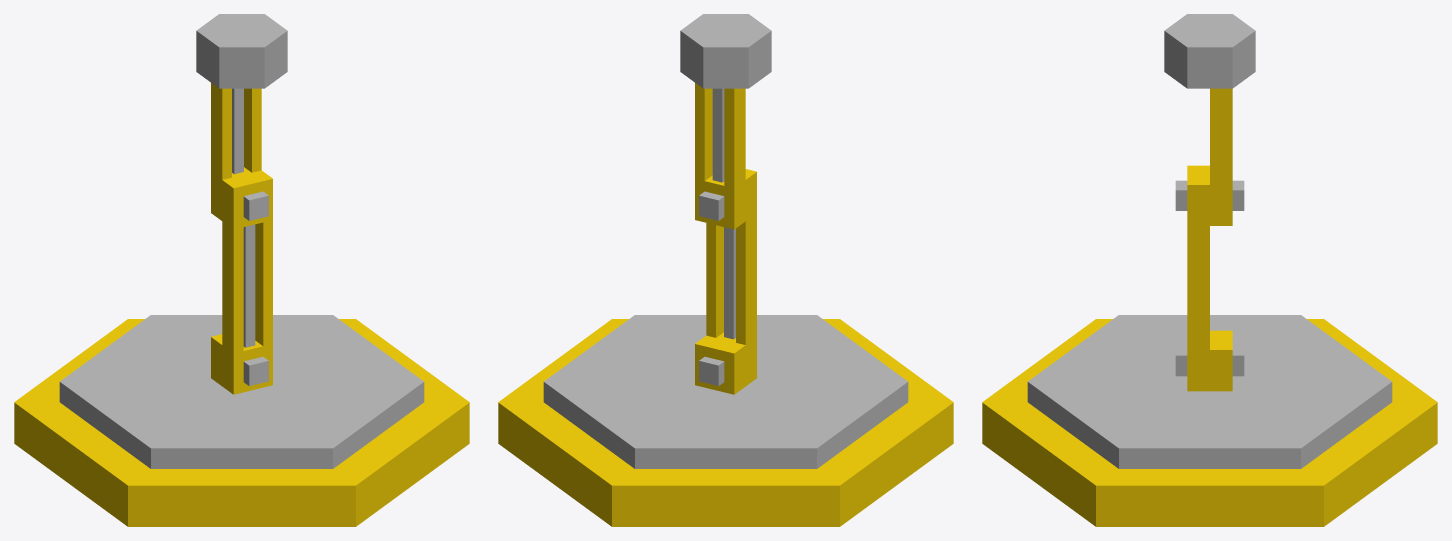
The model's file is robot.glb.
3 renders of one model, left to right at view 1: azimuth 30°, elevation 25°; view 2: azimuth 150°, elevation 25°; view 3: azimuth 270°, elevation 25°, orthographic.
Visible parts, largest first — view 1: Waist, Base, Hand, Arm; view 2: Waist, Base, Hand, Arm; view 3: Waist, Base, Hand, Arm.
Boxes of the visible parts, x1,y1,x2,y2 form: Waist: [59, 315, 424, 468]; Base: [14, 319, 469, 526]; Hand: [196, 14, 287, 220]; Arm: [222, 170, 272, 394]; Waist: [543, 315, 908, 468]; Base: [498, 319, 953, 526]; Hand: [680, 14, 771, 229]; Arm: [706, 169, 756, 385]; Waist: [1027, 315, 1392, 468]; Base: [982, 319, 1437, 526]; Hand: [1164, 14, 1255, 225]; Arm: [1175, 165, 1209, 391].
Size of the model in its own units: 17.32 by 20 by 20.
Materials: 1 (1 with a texture image).
